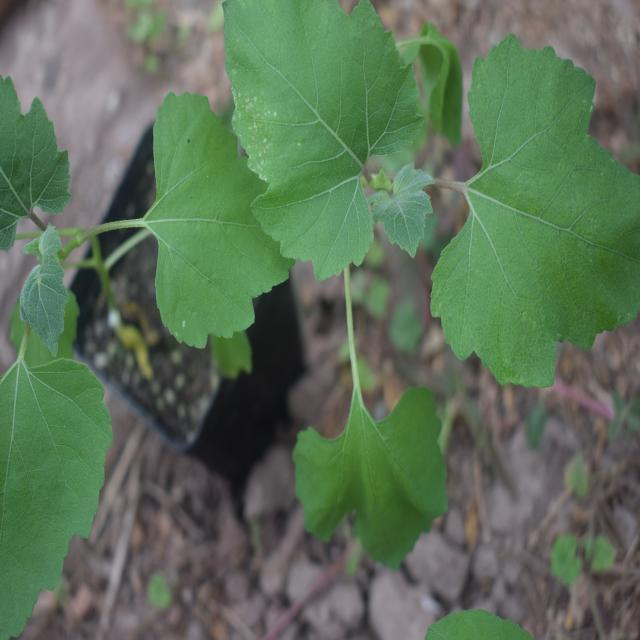cocklebur: (214, 6, 632, 532), (0, 104, 280, 565)
